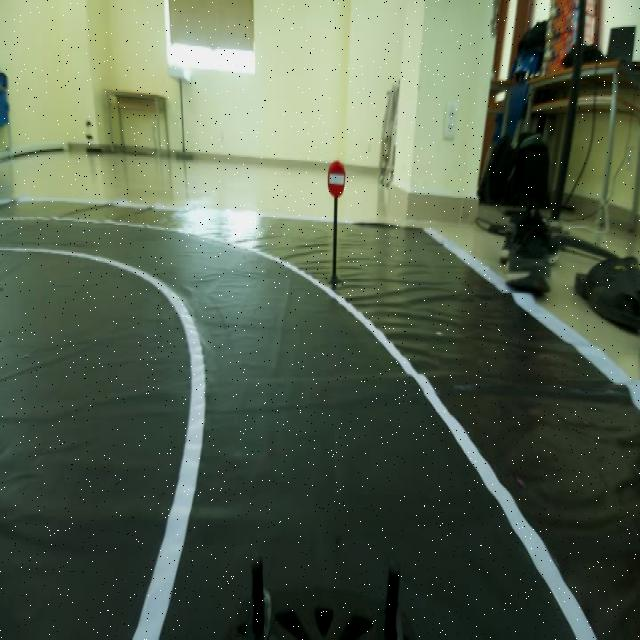no_entry: (322, 150, 347, 200)
